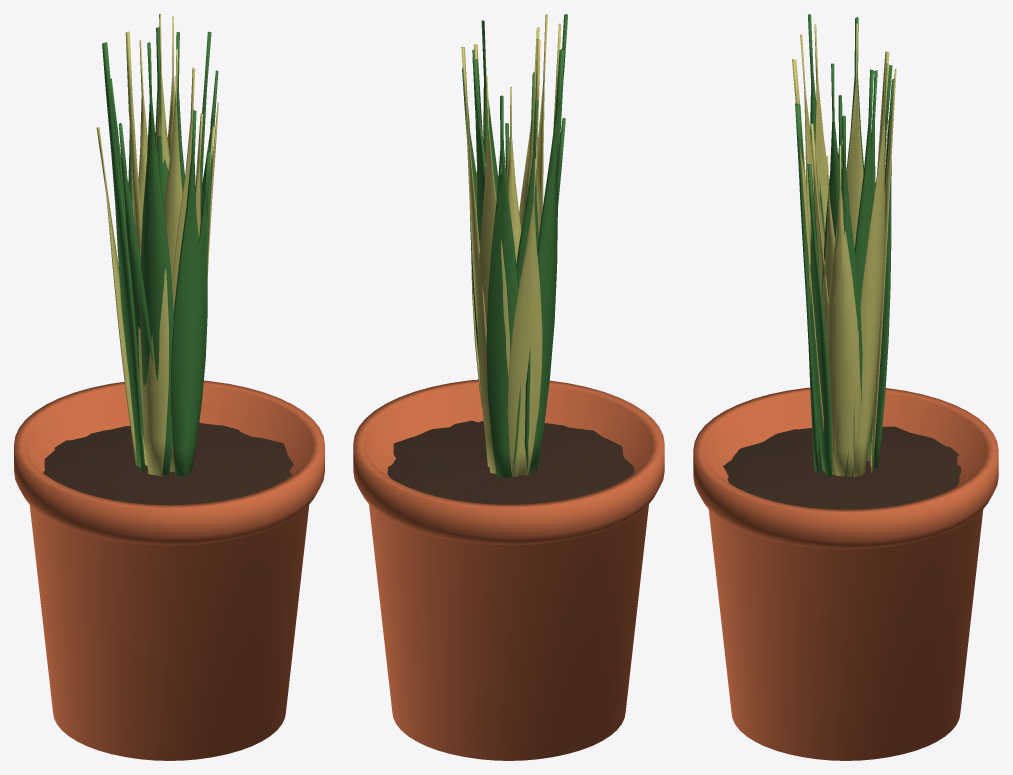
Rendered from living-plantsnake.glb.
The picture shows the model from 3 angles, left to right: view 1: azimuth 30°, elevation 25°; view 2: azimuth 150°, elevation 25°; view 3: azimuth 270°, elevation 25°; orthographic projection.
Parts seen in each view (by area): view 1: PlantSnake__Pot, PlantSnake__Leaves, PlantSnake__Soil, PlantSnake__LeafEdges; view 2: PlantSnake__Pot, PlantSnake__Leaves, PlantSnake__LeafEdges, PlantSnake__Soil; view 3: PlantSnake__Pot, PlantSnake__LeafEdges, PlantSnake__Leaves, PlantSnake__Soil.
Part boxes in pixels (x1,y1,x2,y2): PlantSnake__Pot: [14, 380, 324, 760]; PlantSnake__Leaves: [102, 27, 218, 476]; PlantSnake__Soil: [43, 422, 293, 505]; PlantSnake__LeafEdges: [96, 14, 218, 476]; PlantSnake__Pot: [353, 379, 664, 760]; PlantSnake__Leaves: [462, 14, 567, 477]; PlantSnake__LeafEdges: [461, 14, 560, 477]; PlantSnake__Soil: [387, 420, 634, 504]; PlantSnake__Pot: [693, 387, 998, 760]; PlantSnake__LeafEdges: [792, 23, 896, 477]; PlantSnake__Leaves: [795, 14, 893, 476]; PlantSnake__Soil: [723, 426, 960, 509].
Size of the model in its own units: 41.6 by 103 by 41.6.
